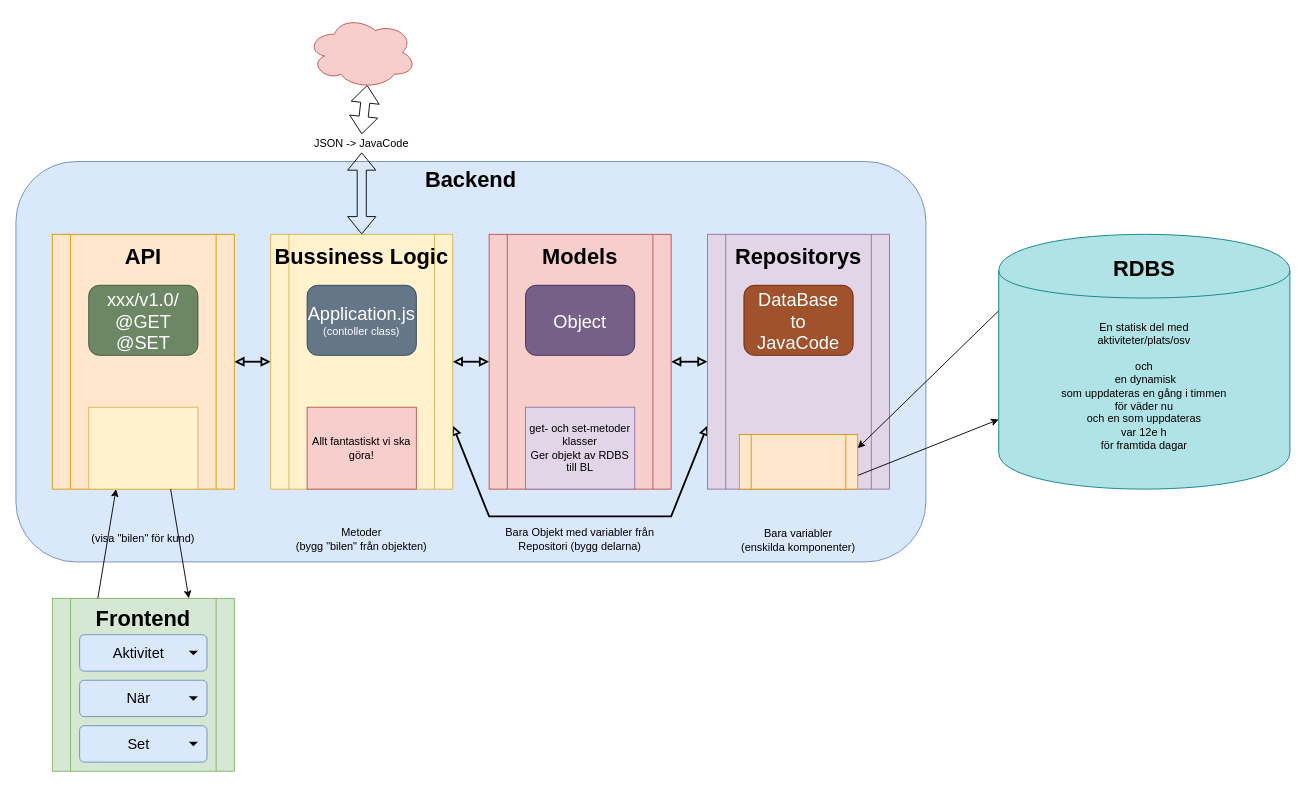
Image size: 1306x787. Some labels were removed from this diagram. Here are the shapes that lost their labels. From the top down, the centre of each, then its label:
At (361,52): "SMHI's API SAPI".
At (143,447): "@Path /bad /fiske /uteservering /vindsurfa /vollyboll".
At (798,461): "Get activity by osv, SQL frågor till DB SQL frågor i JavaCode".
